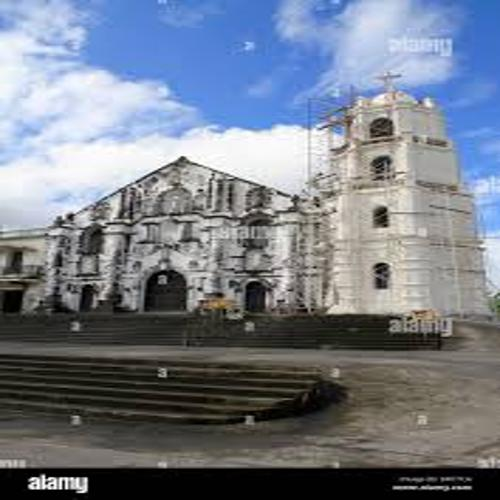Daraga Church: (46, 64, 500, 334)
